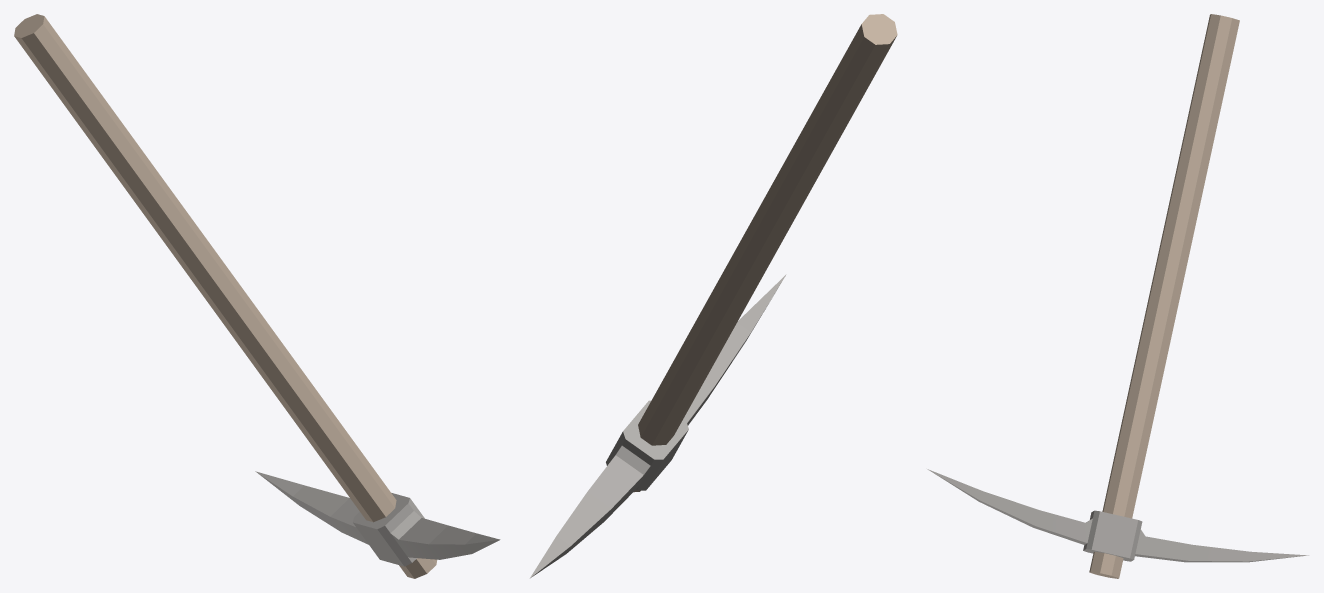
Rendered from Cave_Prop_Pick_Large.glb.
3 renders of one model, left to right at view 1: azimuth 30°, elevation 25°; view 2: azimuth 150°, elevation 25°; view 3: azimuth 270°, elevation 25°, orthographic. The views are drawn at different scales.
Visible parts, largest first — view 1: Cave_Prop_Pick_Large; view 2: Cave_Prop_Pick_Large; view 3: Cave_Prop_Pick_Large.
Part boxes in pixels (x1=…): Cave_Prop_Pick_Large: x1=14, y1=14, x2=500, y2=578; Cave_Prop_Pick_Large: x1=529, y1=14, x2=897, y2=578; Cave_Prop_Pick_Large: x1=927, y1=14, x2=1308, y2=578.
Bounding box in the file's own units: 0.4476 × 0.7266 × 0.5593.
